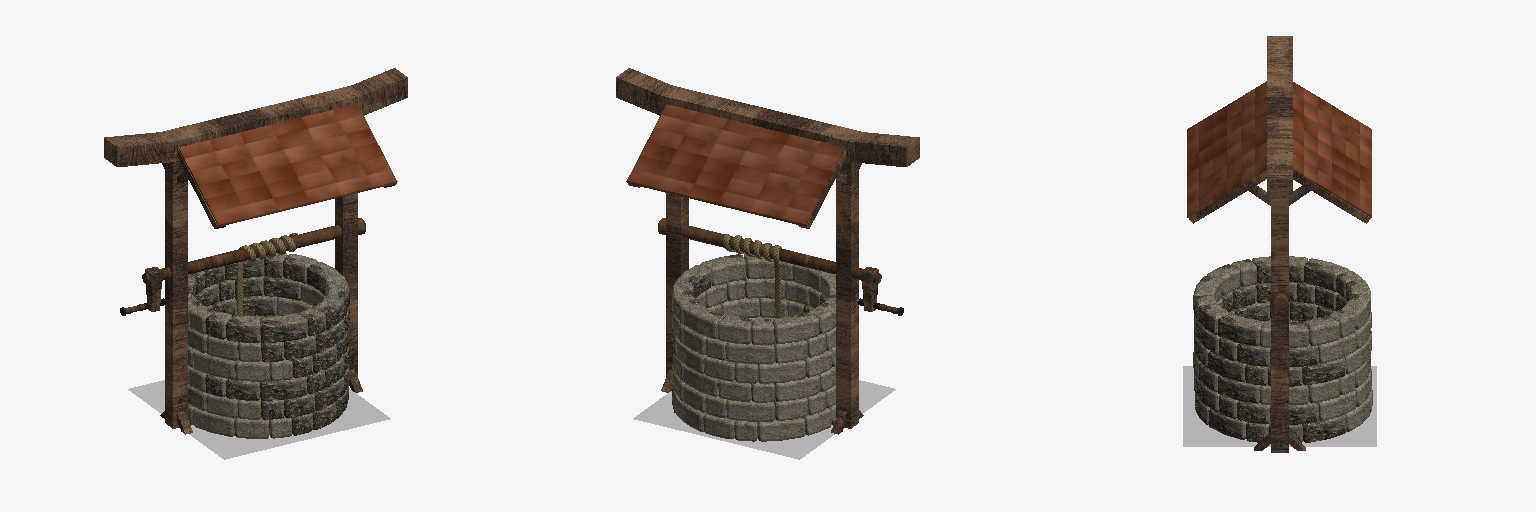
3 views of the same model, side by side, from view 1: azimuth 30°, elevation 25°; view 2: azimuth 150°, elevation 25°; view 3: azimuth 270°, elevation 25° (orthographic).
Parts seen in each view (by area): view 1: Well, Plane; view 2: Well, Plane; view 3: Well, Plane.
Part boxes in pixels (left/top/right/bottom): Well: left=104, top=68, right=407, bottom=438; Plane: left=128, top=380, right=390, bottom=459; Well: left=616, top=68, right=919, bottom=441; Plane: left=633, top=380, right=895, bottom=459; Well: left=1187, top=36, right=1372, bottom=452; Plane: left=1183, top=366, right=1376, bottom=446.
Bounding box in the file's own units: 2.25 × 2.2 × 1.29.
Materials: 2 (1 with a texture image).